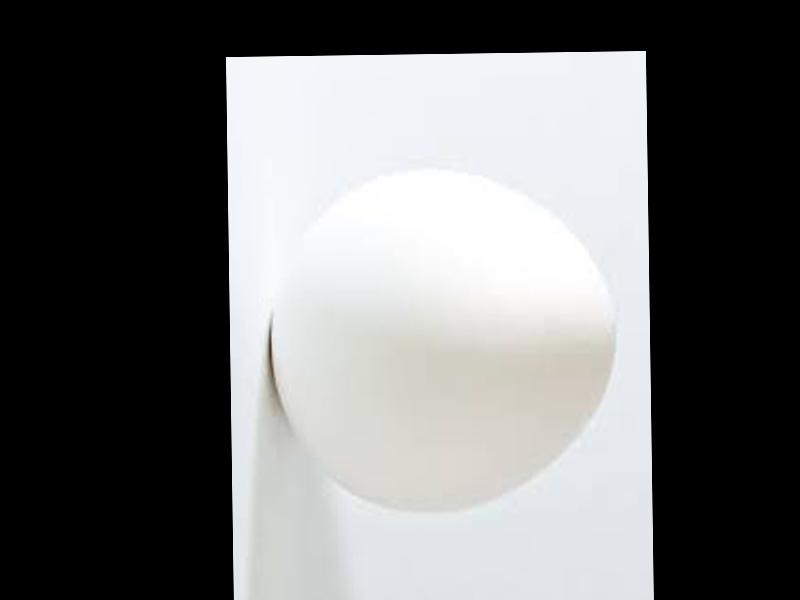Eggs: (268, 168, 620, 511)
